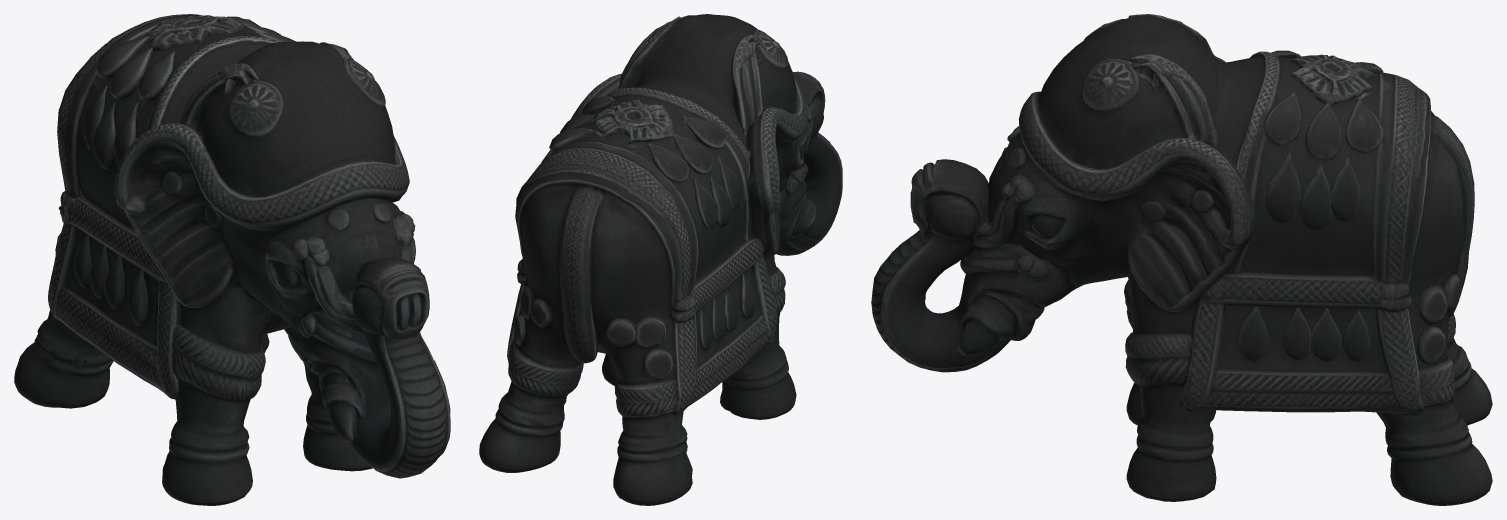
File: black-elephant.glb
3 renders of one model, left to right at view 1: azimuth 30°, elevation 25°; view 2: azimuth 150°, elevation 25°; view 3: azimuth 270°, elevation 25°, orthographic. The views are drawn at different scales.
Parts seen in each view (by area): view 1: black-elephant; view 2: black-elephant; view 3: black-elephant.
Part boxes in pixels (x1,y1,x2,y2): black-elephant: (14, 14, 450, 505); black-elephant: (479, 14, 842, 505); black-elephant: (871, 14, 1492, 505).
Bounding box in the file's own units: 0.1194 × 0.19 × 0.2536.
Materials: 1 (1 with a texture image).
